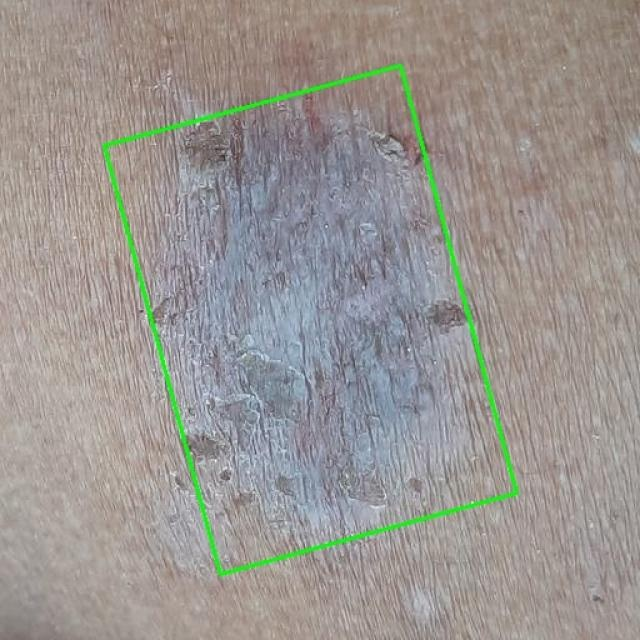Seborrheic Dermatitis: (104, 65, 517, 574)
